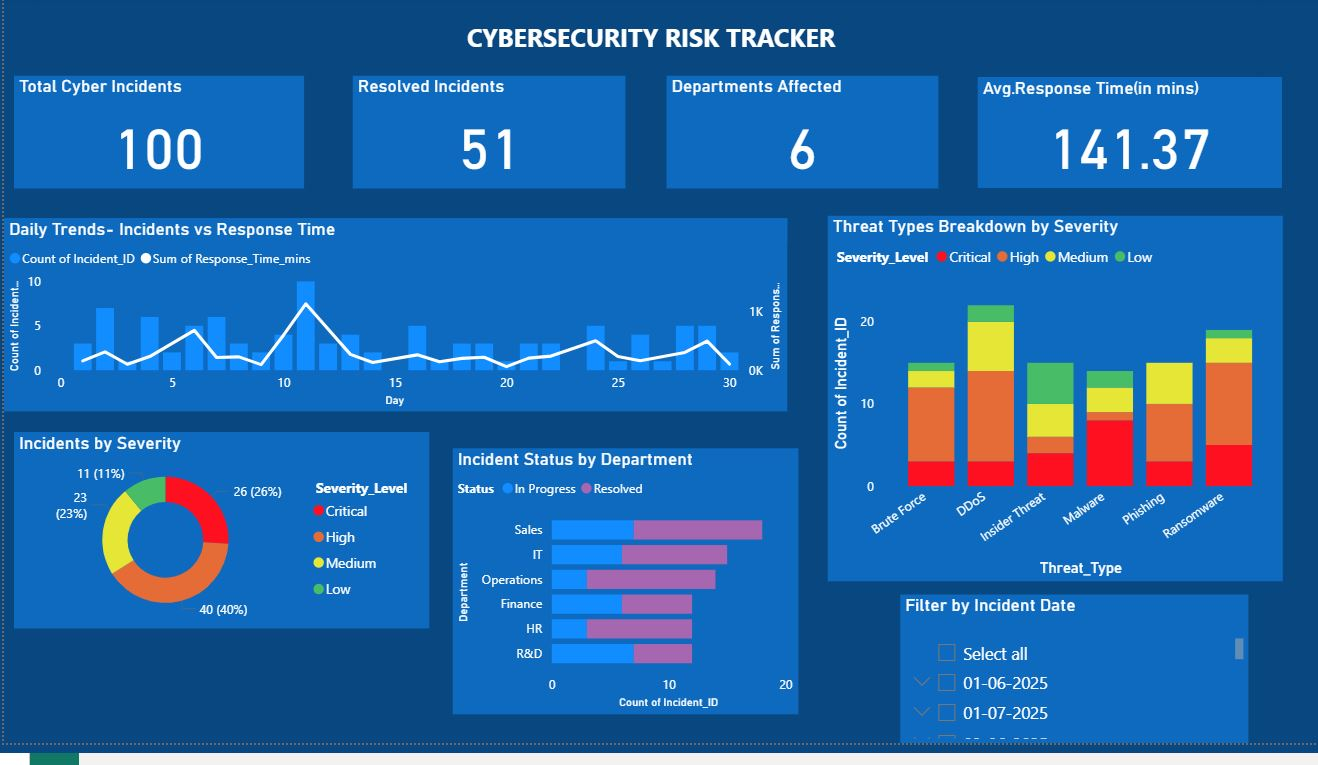

What the dashboard file says about the page in this screenshot:
{"tool":"powerbi","page":{"name":"Page 1","canvas":[1280,720],"ordinal":0},"visuals":[{"type":"textbox","box":[9.6,0,1180.1,94.7],"z":0},{"type":"textbox","box":[31.6,0,1180.1,149.6],"z":1000},{"type":"card","title":"Total Cyber Incidents","fields":{"Values":["CountNonNull(cyber_incidents.Incident_ID)"]},"box":[9.6,75.5,279.9,108.4],"z":2000},{"type":"card","title":"Resolved Incidents","fields":{"Values":["cyber_incidents.Resolved_Incidents"]},"box":[336.2,75.5,263.5,108.4],"z":3000},{"type":"card","title":"Departments Affected ","fields":{"Values":["Count(cyber_incidents.Department)"]},"box":[639.5,75.5,262.1,108.4],"z":4000},{"type":"card","title":"Avg.Response Time(in mins)","fields":{"Values":["Avg(cyber_incidents.Response_Time_mins)"]},"box":[940,76.8,293.7,107],"z":5000},{"type":"lineClusteredColumnComboChart","title":"Daily Trends- Incidents vs Response Time","fields":{"Category":["cyber_incidents.Detected_Timestamp.Variation.Date Hierarchy.Day"],"Y":["CountNonNull(cyber_incidents.Incident_ID)"],"Y2":["Sum(cyber_incidents.Response_Time_mins)"]},"box":[0,214.1,756.1,186.6],"z":6000},{"type":"barChart","title":"Incident Status by Department","fields":{"Y":["CountNonNull(cyber_incidents.Incident_ID)"],"Category":["cyber_incidents.Department"],"Series":["cyber_incidents.Status"]},"box":[433.6,435,333.4,256.6],"z":7000},{"type":"donutChart","title":"Incidents by Severity","fields":{"Y":["CountNonNull(cyber_incidents.Incident_ID)"],"Category":["Severity Sort. Severity_Level"]},"box":[9.6,419.9,400.7,189.4],"z":8000},{"type":"columnChart","title":"Threat Types Breakdown by Severity","fields":{"Category":["cyber_incidents.Threat_Type"],"Y":["CountNonNull(cyber_incidents.Incident_ID)"],"Series":["Severity Sort. Severity_Level"]},"box":[794.5,211.3,439.1,352.7],"z":9000},{"type":"slicer","title":"Filter by Incident Date","fields":{"Values":["cyber_incidents.Date","cyber_incidents.Severity_Level","cyber_incidents.Department","cyber_incidents.Status"]},"box":[864.5,576.3,336.2,144.1],"z":10000}]}

Visuals, with their boxes on the page's 1280x720 design canvas (x1, y1, x2, y2). These are canvas units, not pixel positions in the 1318x765 screenshot, which may show the page scaled, cropped or inside an application window:
textbox: rect(10, 0, 1190, 95)
textbox: rect(32, 0, 1212, 150)
"Total Cyber Incidents" card: rect(10, 76, 290, 184)
"Resolved Incidents" card: rect(336, 76, 600, 184)
"Departments Affected " card: rect(640, 76, 902, 184)
"Avg.Response Time(in mins)" card: rect(940, 77, 1234, 184)
"Daily Trends- Incidents vs Response Time" lineClusteredColumnComboChart: rect(0, 214, 756, 401)
"Incident Status by Department" barChart: rect(434, 435, 767, 692)
"Incidents by Severity" donutChart: rect(10, 420, 410, 609)
"Threat Types Breakdown by Severity" columnChart: rect(794, 211, 1234, 564)
"Filter by Incident Date" slicer: rect(864, 576, 1201, 720)
